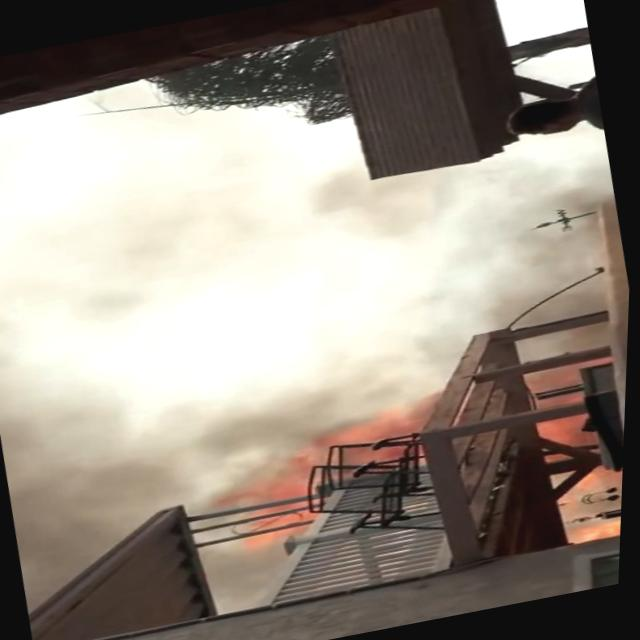fire: (232, 455, 332, 540)
smoke: (0, 135, 134, 580)
